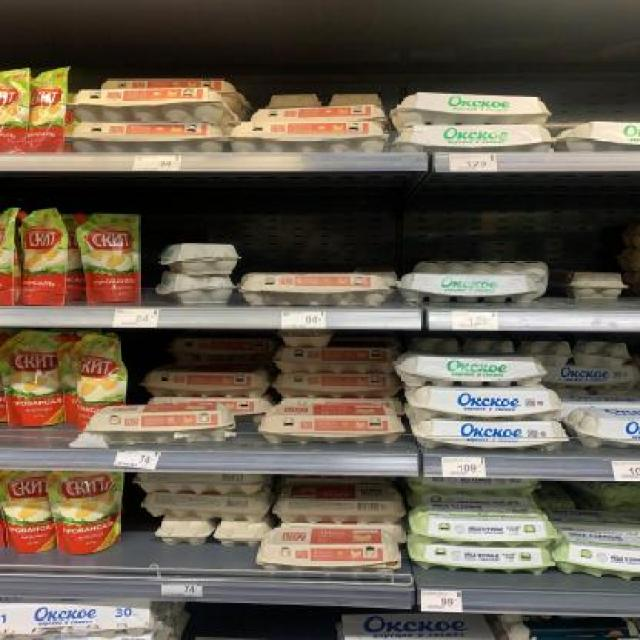Egg: (255, 526, 400, 577), (408, 502, 558, 547), (50, 466, 127, 552), (83, 404, 240, 445), (235, 269, 391, 308), (0, 331, 65, 424), (78, 212, 142, 306), (66, 334, 131, 426), (390, 89, 556, 125), (258, 404, 404, 444), (407, 417, 570, 452), (270, 482, 405, 524), (391, 272, 552, 306), (392, 353, 553, 387), (68, 87, 227, 121), (403, 386, 565, 419), (391, 120, 557, 152), (403, 539, 554, 573), (0, 468, 58, 554), (15, 210, 68, 304), (68, 122, 227, 153), (227, 122, 390, 152), (551, 531, 640, 583), (137, 363, 272, 397), (270, 370, 401, 401), (273, 346, 401, 374), (406, 474, 540, 497), (166, 334, 277, 360), (31, 68, 64, 154), (577, 408, 640, 452), (0, 69, 32, 155), (546, 362, 640, 390), (166, 239, 236, 273), (164, 272, 234, 306), (568, 121, 640, 153)
